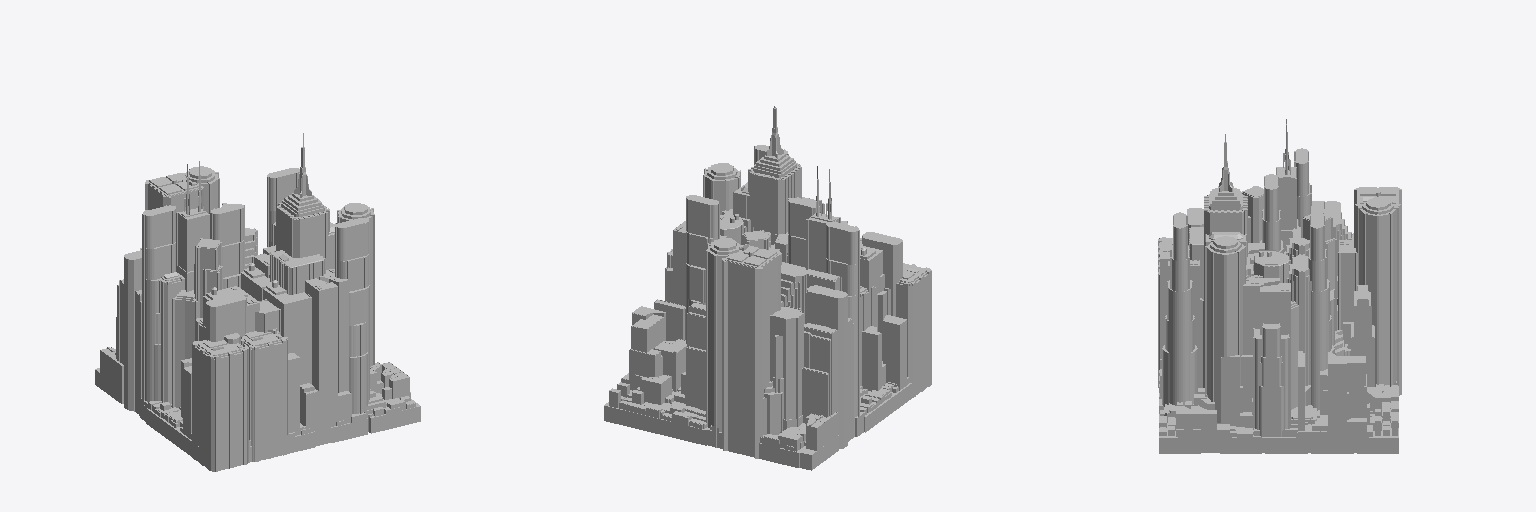
File: building01.obj
3 renders of one model, left to right at view 1: azimuth 30°, elevation 25°; view 2: azimuth 150°, elevation 25°; view 3: azimuth 270°, elevation 25°, orthographic.
Parts seen in each view (by area): view 1: Buildings.1; view 2: Buildings.1; view 3: Buildings.1.
Part boxes in pixels (left/top/right/bottom): Buildings.1: left=95, top=133, right=420, bottom=471; Buildings.1: left=604, top=106, right=931, bottom=470; Buildings.1: left=1158, top=119, right=1401, bottom=453.
Size of the model in its own units: 5661 by 7590 by 5722.